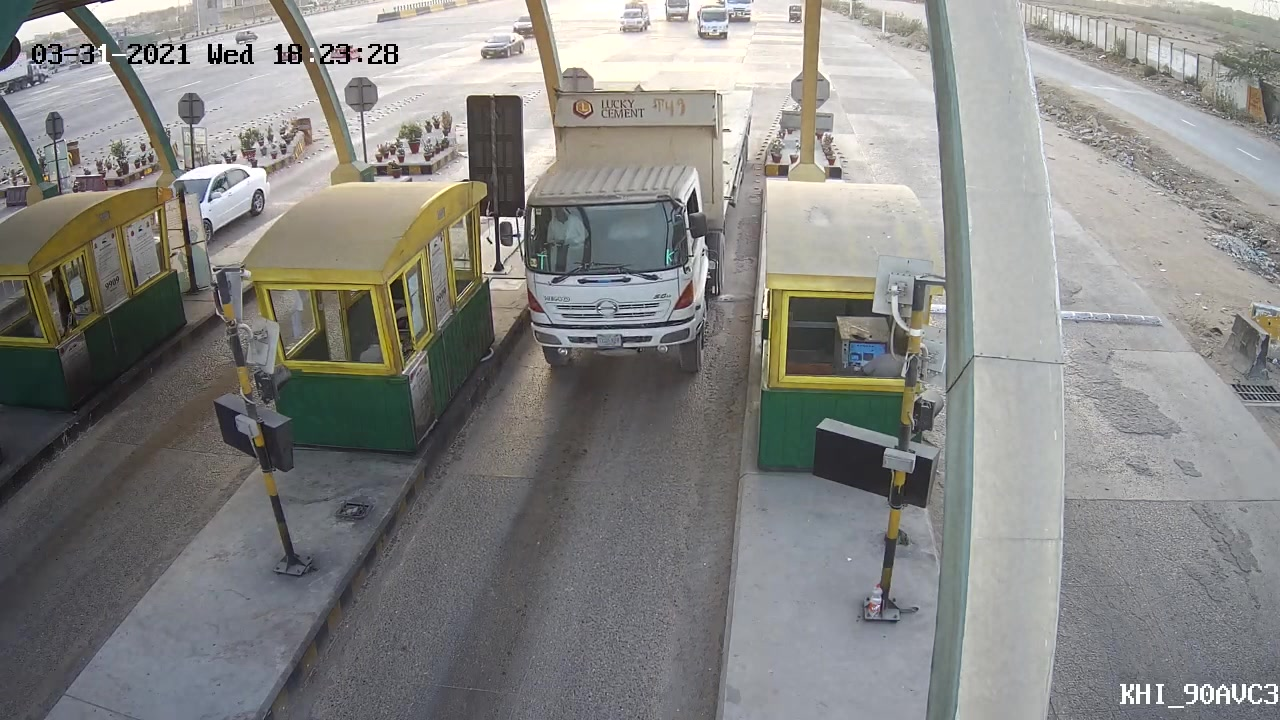F6: (498, 79, 759, 370)
